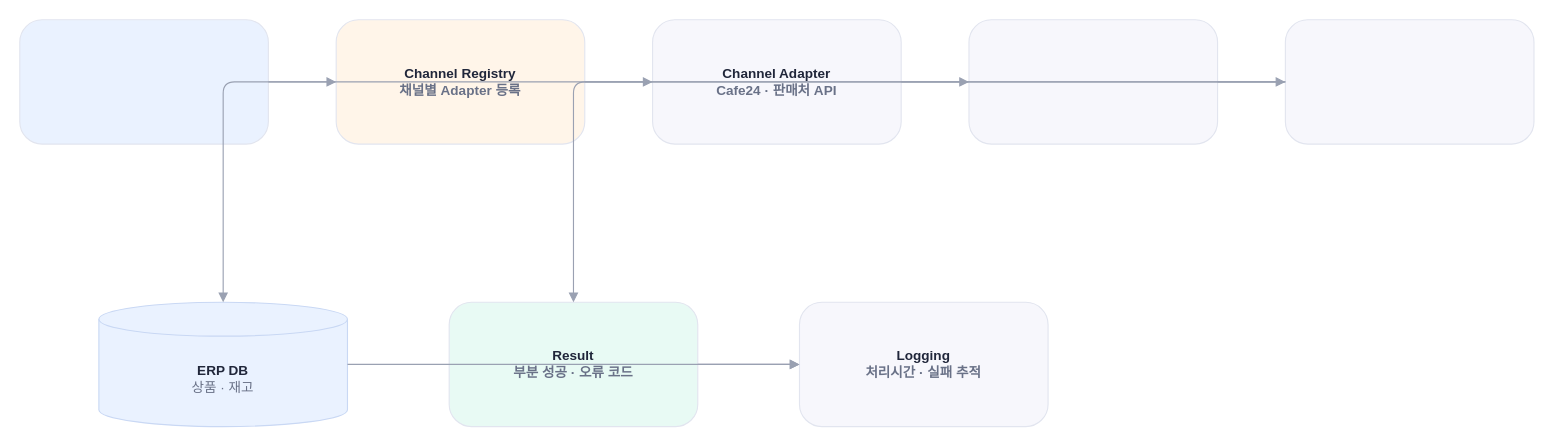
This 1554x446 diagram has some shape labels left out. Here are the shapes that lost their labels. From the top down, the centre of each, then its label:
pixel 143 81: FastAPI 상품 / 재고 API
pixel 1093 81: Normalization 3단계 데이터 정규화
pixel 1409 81: Validation 선언적 규칙 / 표준 오류
